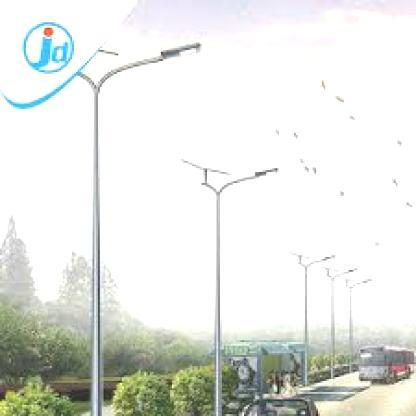light_pole: (89, 39, 209, 415), (216, 165, 282, 415), (300, 254, 339, 382), (329, 267, 356, 374), (346, 278, 372, 367)
